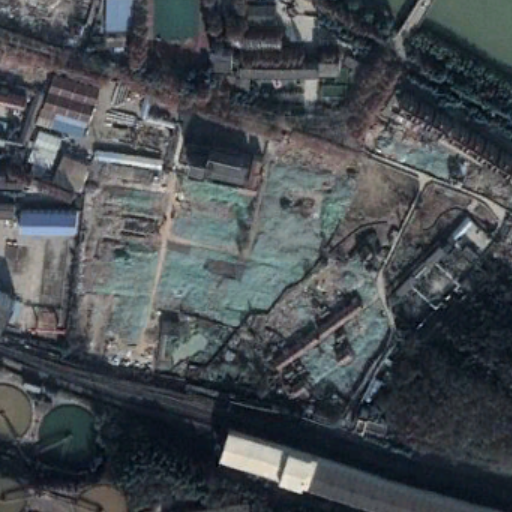cw: (70, 139, 394, 405), (373, 121, 464, 180)
